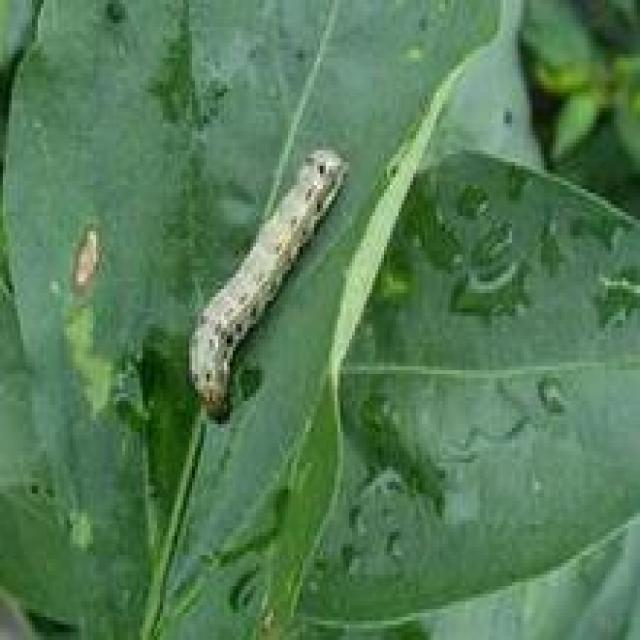BeetArmyWorm-Larva-: (179, 142, 357, 423)
